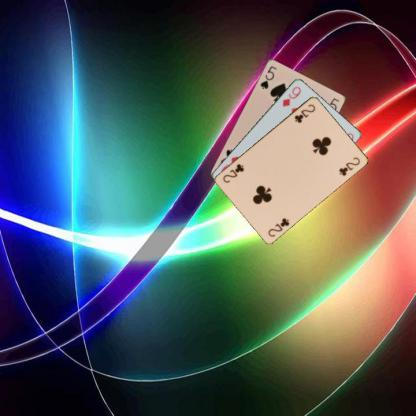2c: (265, 215, 291, 238), (292, 101, 316, 124)
5s: (258, 63, 278, 90)
9d: (280, 84, 302, 107)
